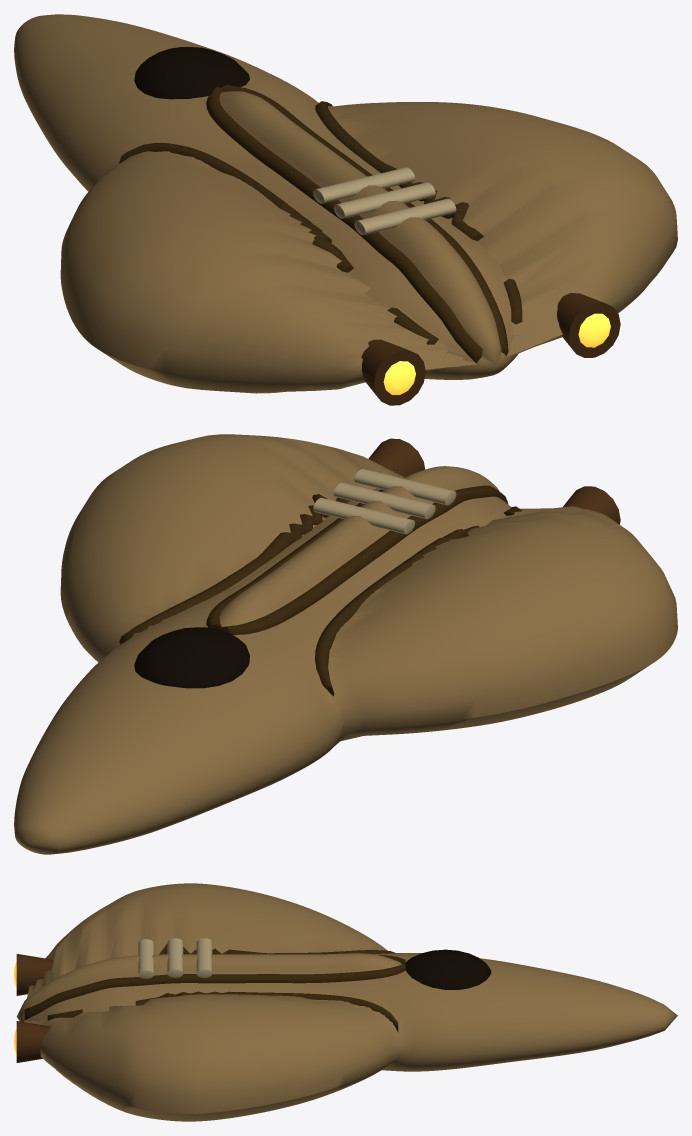
Rendered from talon.glb.
3 views of the same model, one above another, from view 1: azimuth 30°, elevation 25°; view 2: azimuth 150°, elevation 25°; view 3: azimuth 270°, elevation 25° (orthographic). The views are drawn at different scales.
Parts seen in each view (by area): view 1: hull, seam_4, canopy, seam_1, nozzle-1, nozzle1, seam_5, seam_3, band2, band1, band0, exhaust1 (+1 smaller); view 2: hull, canopy, seam_4, seam_3, seam_1, band1, band0, band2, nozzle1, nozzle-1, seam_5; view 3: hull, seam_5, canopy, seam_3, nozzle1, nozzle-1, seam_1, band1, band0, band2.
Part boxes in pixels (<box>): hull: <box>14,14,677,393</box>; seam_4: <box>206,87,482,363</box>; canopy: <box>134,47,249,99</box>; seam_1: <box>119,143,353,272</box>; nozzle-1: <box>361,339,425,405</box>; nozzle1: <box>557,293,620,357</box>; seam_5: <box>222,85,508,355</box>; seam_3: <box>315,101,483,240</box>; band2: <box>354,198,456,235</box>; band1: <box>333,182,435,218</box>; band0: <box>313,167,415,203</box>; exhaust1: <box>578,313,610,347</box>; hull: <box>14,434,677,854</box>; canopy: <box>134,627,249,688</box>; seam_4: <box>219,485,508,635</box>; seam_3: <box>119,494,349,644</box>; seam_1: <box>315,525,479,696</box>; band1: <box>333,482,435,519</box>; band0: <box>313,497,414,534</box>; band2: <box>354,468,456,505</box>; nozzle1: <box>368,438,425,477</box>; nozzle-1: <box>563,486,620,524</box>; seam_5: <box>206,489,384,629</box>; hull: <box>16,883,677,1121</box>; seam_5: <box>24,963,405,1020</box>; canopy: <box>405,949,491,989</box>; seam_3: <box>135,991,398,1032</box>; nozzle1: <box>16,1021,50,1062</box>; nozzle-1: <box>16,954,53,995</box>; seam_1: <box>159,944,395,954</box>; band1: <box>167,938,183,977</box>; band0: <box>196,938,212,977</box>; band2: <box>138,939,154,978</box>.
Size of the model in its own units: 17.39 by 4.23 by 25.1.
